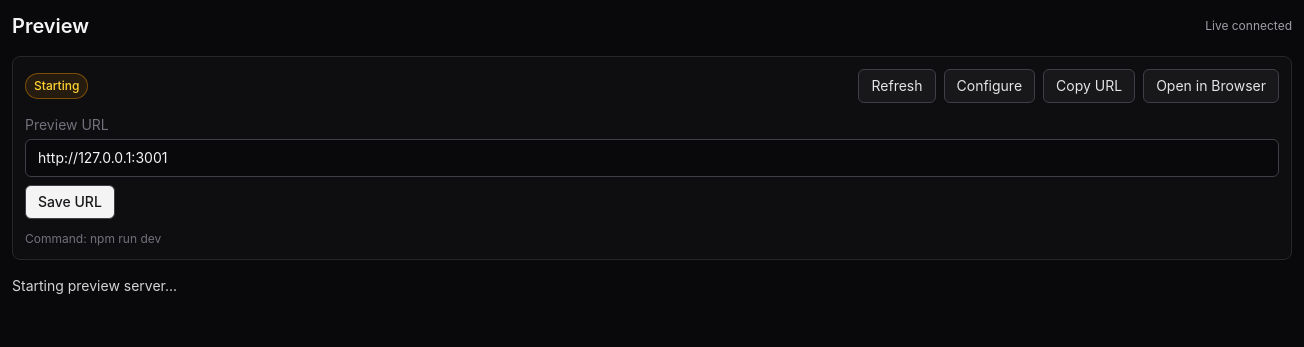
Test: PreviewView › allows configuring the preview URL from the preview toolbar
Replace the text in the field labelled "Preview URL" with "https://preview.example.com:9999" at (652, 158), box top-left (25, 139), bottom-right (1279, 177)
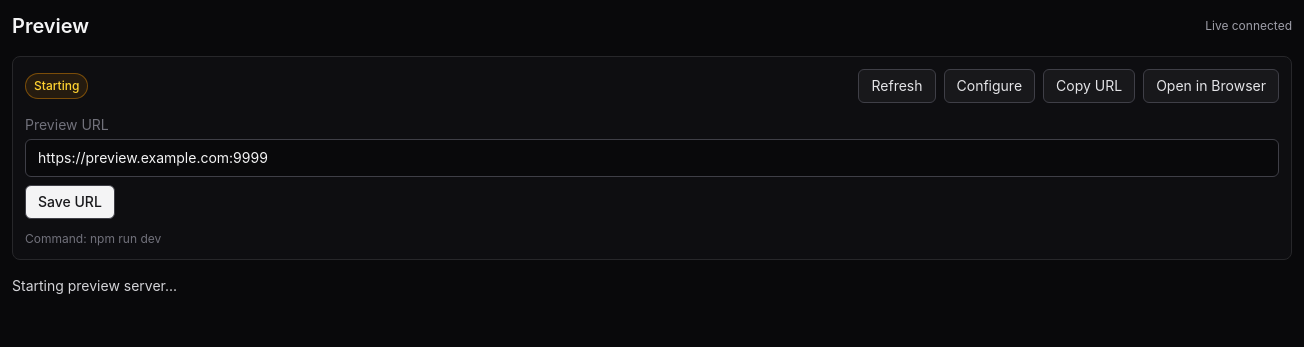
Click the button "Save URL" at (70, 202), box top-left (25, 185), bottom-right (115, 219)
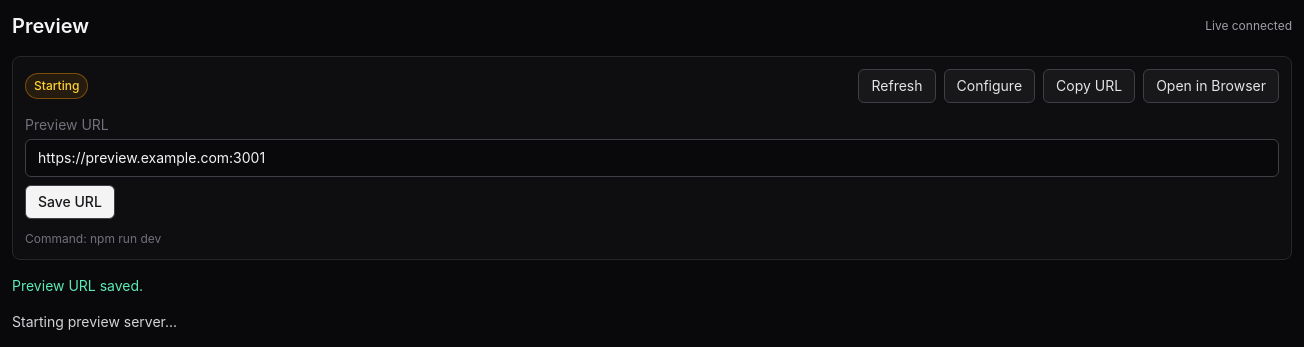
Now the text "Preview URL saved." is shown, box top-left (12, 277), bottom-right (143, 294)
